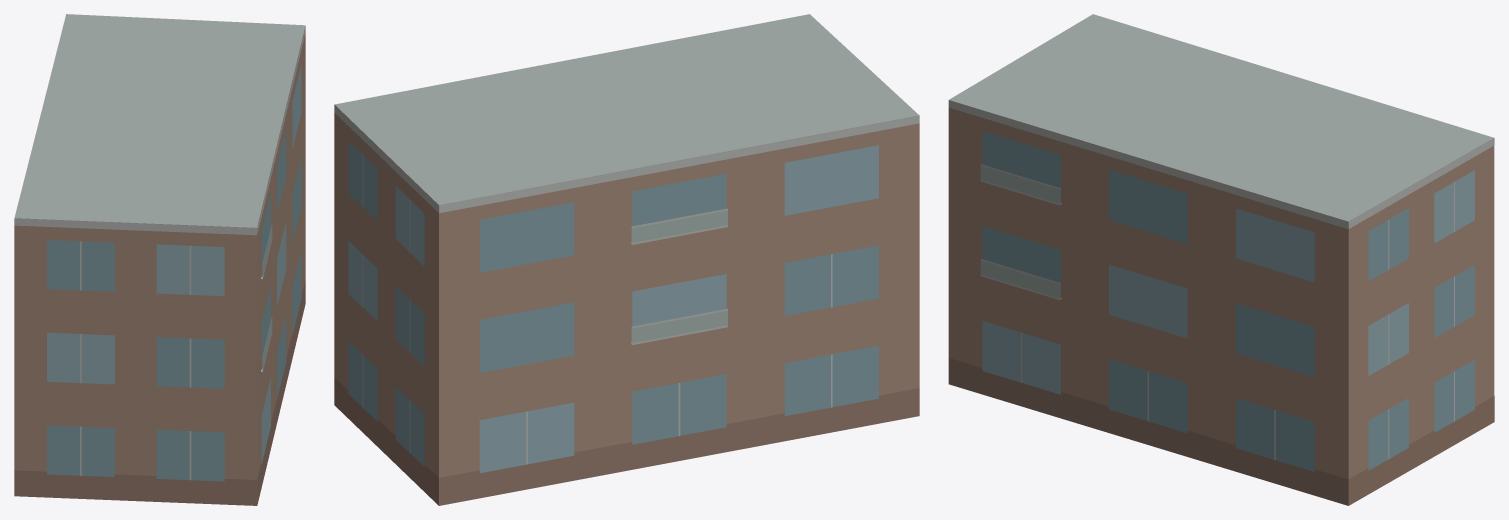
Rendered from survey-upis-32700880.glb.
The picture shows the model from 3 angles, left to right: view 1: azimuth 30°, elevation 25°; view 2: azimuth 150°, elevation 25°; view 3: azimuth 270°, elevation 25°; orthographic projection. The views are drawn at different scales.
Parts seen in each view (by area): view 1: survey-upis-32700880.tmp; view 2: survey-upis-32700880.tmp; view 3: survey-upis-32700880.tmp.
Boxes of the visible parts, <box> form: survey-upis-32700880.tmp: <box>14,14,305,505</box>; survey-upis-32700880.tmp: <box>334,14,919,505</box>; survey-upis-32700880.tmp: <box>948,14,1494,505</box>.
Size of the model in its own units: 14.34 by 9.15 by 15.93.
